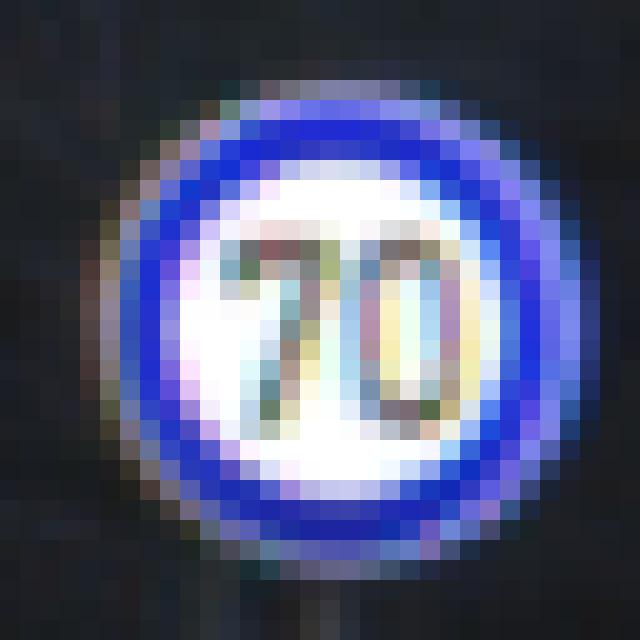SPEED LIMIT 70: (87, 85, 576, 576)
